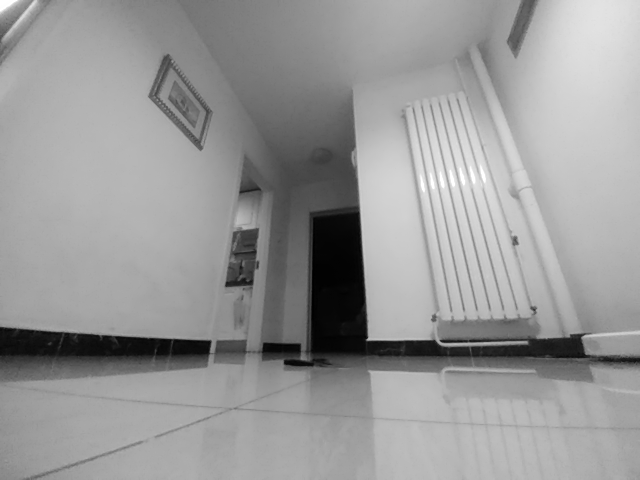others: (282, 357, 350, 372)
